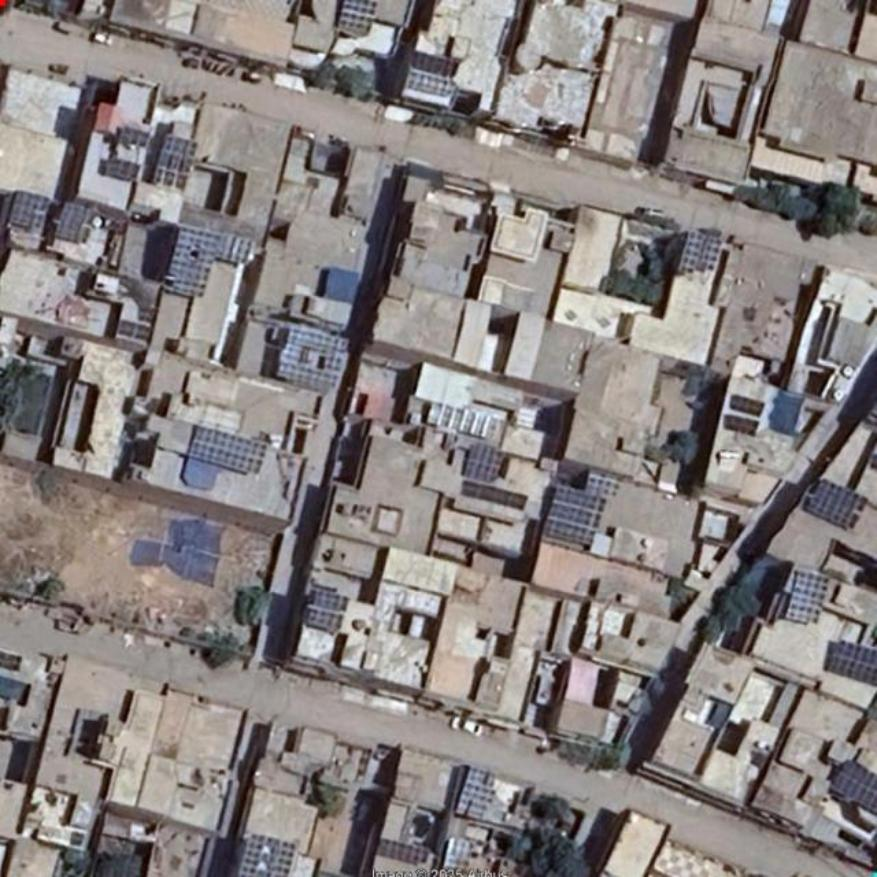Solarpanel: (159, 224, 253, 305), (278, 322, 350, 389), (184, 427, 269, 474), (543, 486, 606, 544), (151, 134, 200, 189), (829, 760, 876, 817), (806, 481, 860, 530), (827, 640, 876, 687), (240, 835, 294, 876), (784, 574, 829, 623), (458, 766, 500, 817), (680, 230, 720, 270), (310, 591, 348, 631), (10, 192, 50, 229), (378, 839, 430, 867), (408, 70, 458, 99), (465, 443, 503, 481), (338, 0, 374, 38), (55, 202, 89, 242), (411, 53, 462, 77), (584, 471, 622, 497)
